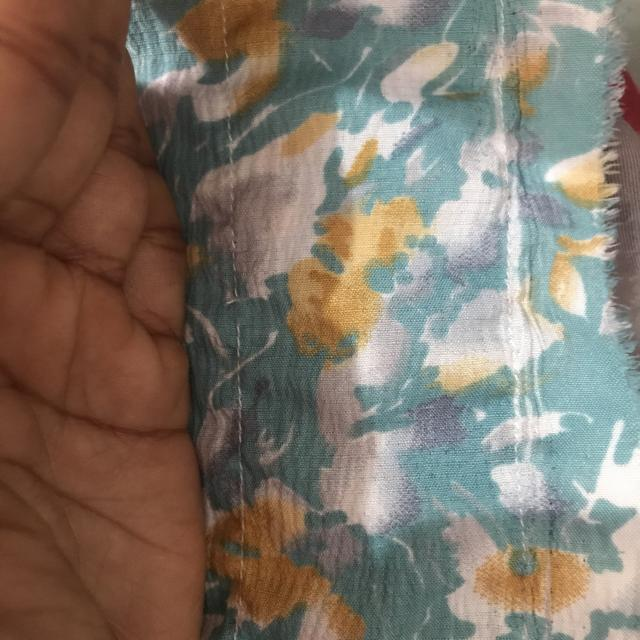broken: (225, 293, 252, 346)
